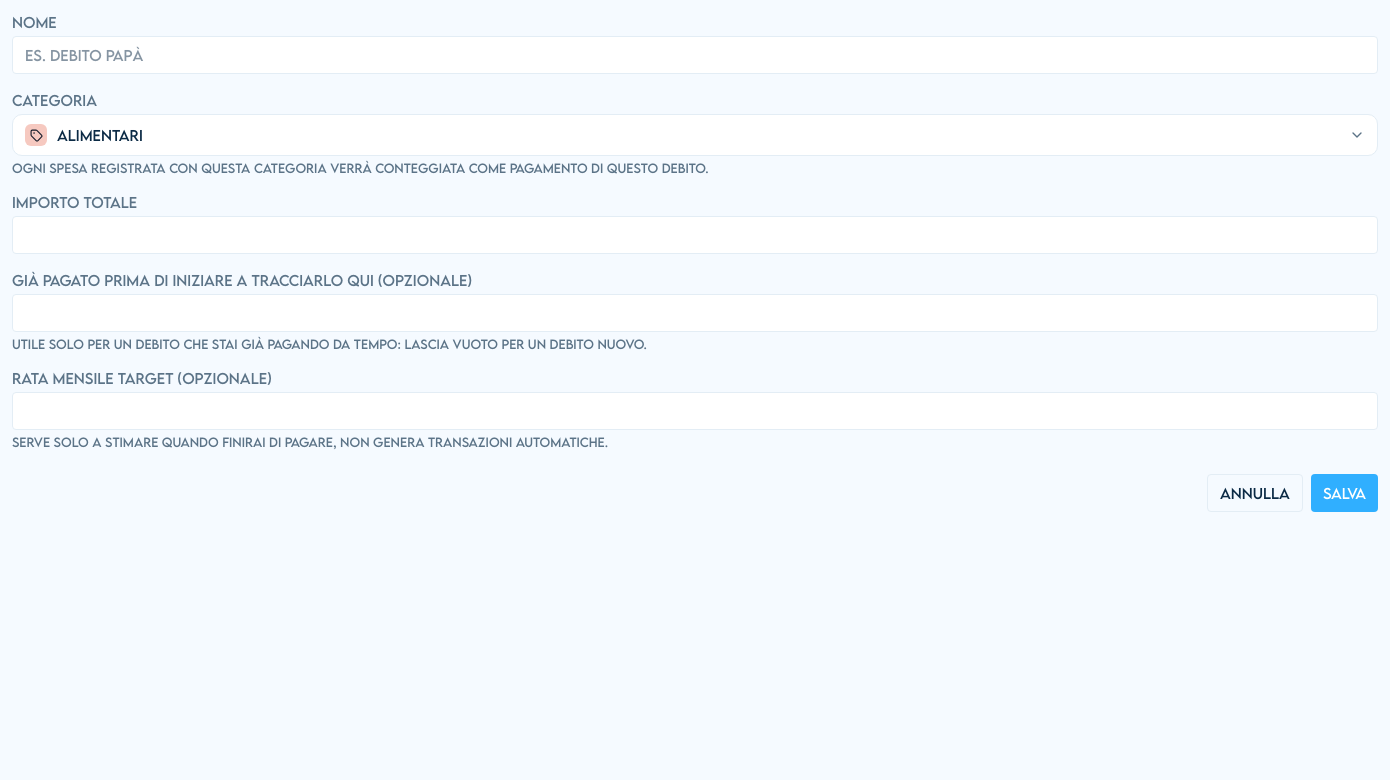
Test: DebtForm › il campo della data compare solo quando serve
Expected: the field labelled "Già pagato fino al" is not shown
Type "500" into the number field labelled "Già pagato prima di iniziare a tracciarlo qui (opzionale)" at (695, 313), box [12,294,1378,332]
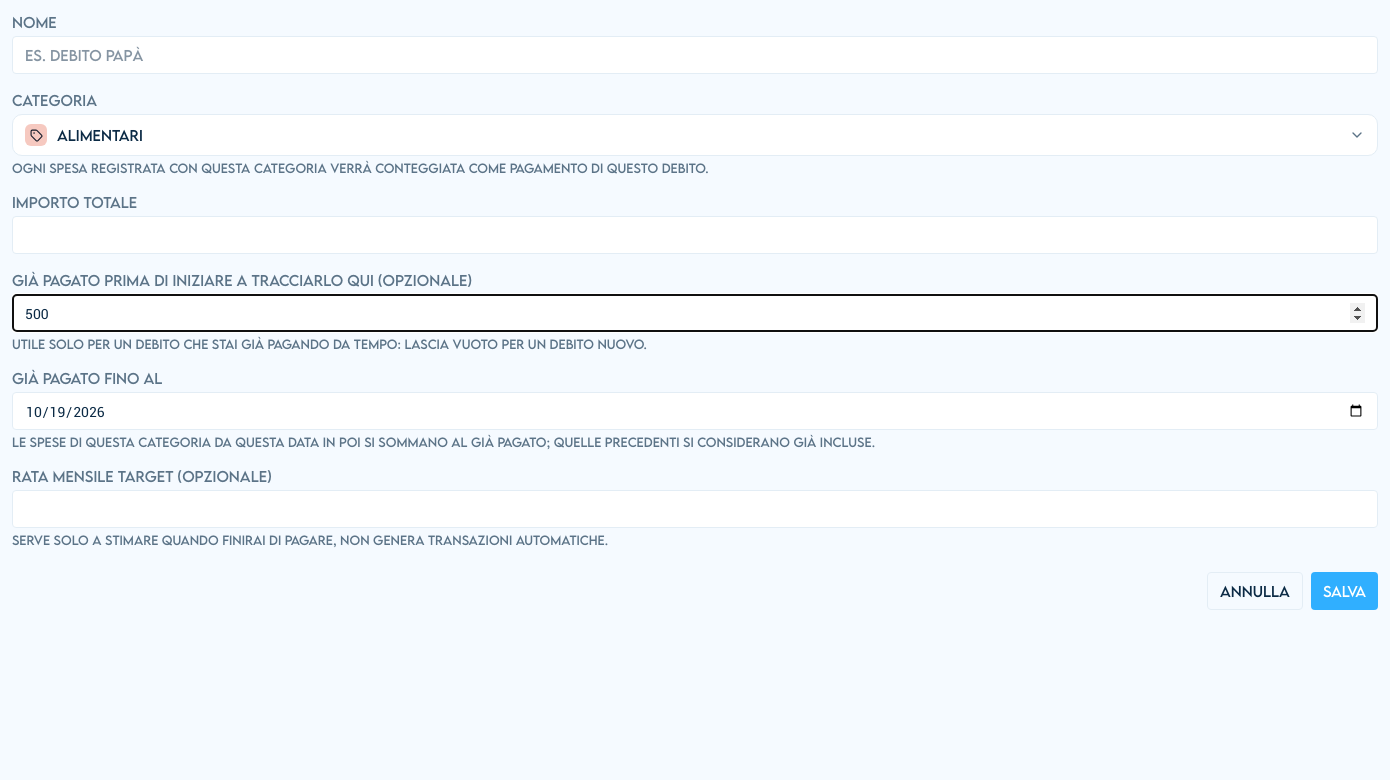
Result: the date field labelled "Già pagato fino al" is shown at [12,392,1378,430]
